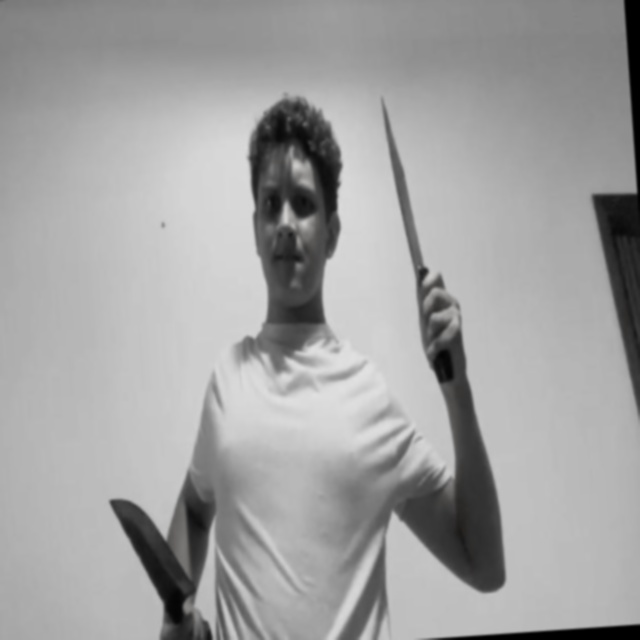Sharp-Object: (109, 492, 197, 610), (380, 95, 422, 276)
